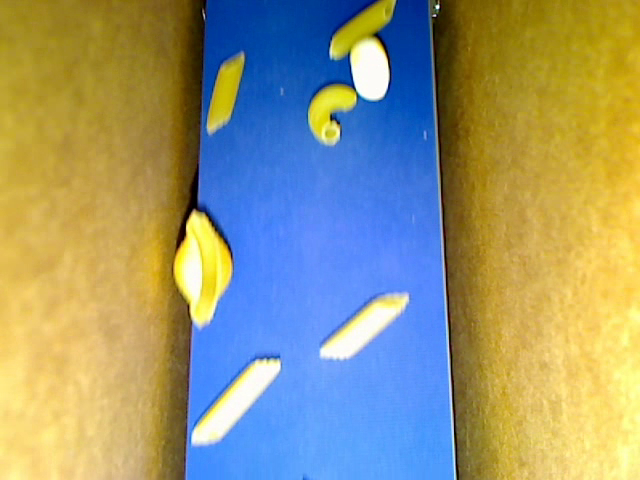elbow: (307, 83, 357, 146)
penne: (190, 358, 280, 447), (317, 291, 410, 360), (328, 1, 395, 61), (205, 52, 245, 133)
shell: (171, 208, 234, 330)
